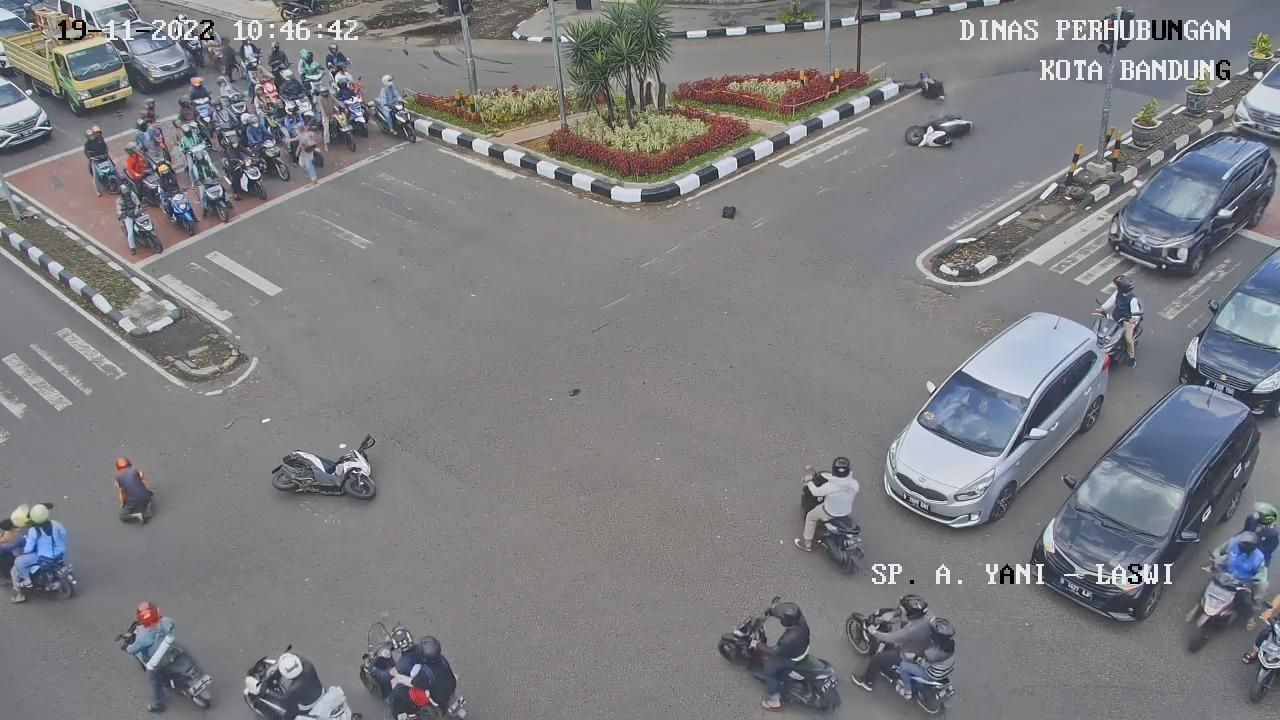accident: (95, 450, 167, 539), (904, 69, 959, 105)
